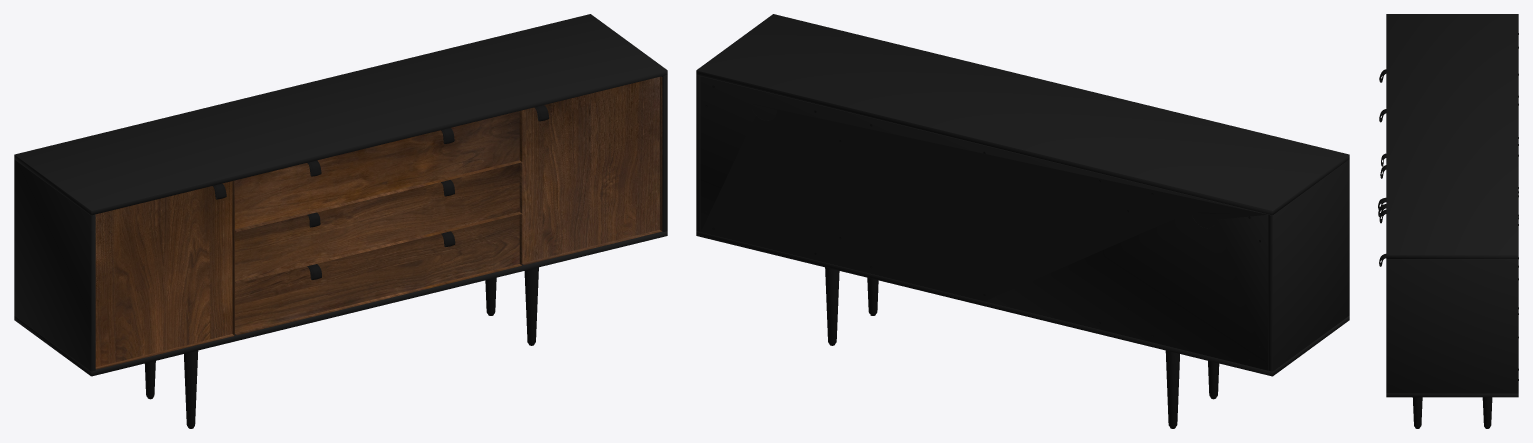
The picture shows the model from 3 angles, left to right: view 1: azimuth 30°, elevation 25°; view 2: azimuth 150°, elevation 25°; view 3: azimuth 270°, elevation 25°; orthographic projection. The views are drawn at different scales.
Visible parts, largest first — view 1: Base, Box, DoorRight, DoorLeft, Legs, Handle; view 2: Base, Legs; view 3: Base, Legs, Handle.
Part boxes in pixels (<box>): Base: <box>14,14,667,376</box>; Box: <box>234,110,522,335</box>; DoorRight: <box>521,76,662,265</box>; DoorLeft: <box>95,180,234,369</box>; Legs: <box>145,267,538,428</box>; Handle: <box>213,105,549,279</box>; Base: <box>696,14,1349,376</box>; Legs: <box>825,267,1219,428</box>; Base: <box>1386,14,1518,397</box>; Legs: <box>1412,397,1492,428</box>; Handle: <box>1378,69,1386,266</box>.
Bounding box in the file's own units: 1.8 × 0.7745 × 0.4451.
Materials: 8 (3 with a texture image).
